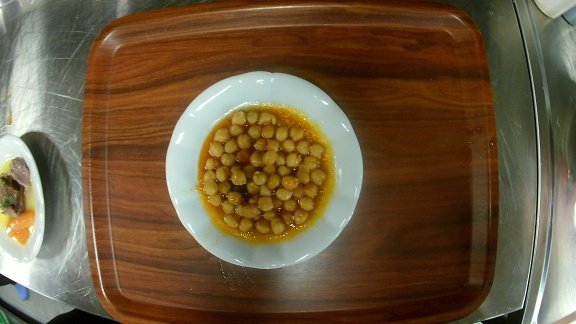sulunohut: (164, 70, 363, 269)
